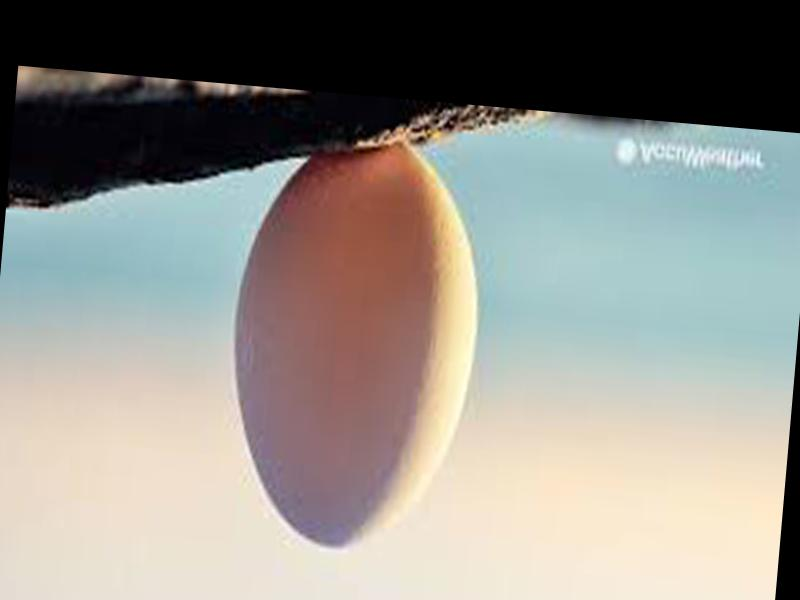Eggs: (215, 135, 492, 561)
